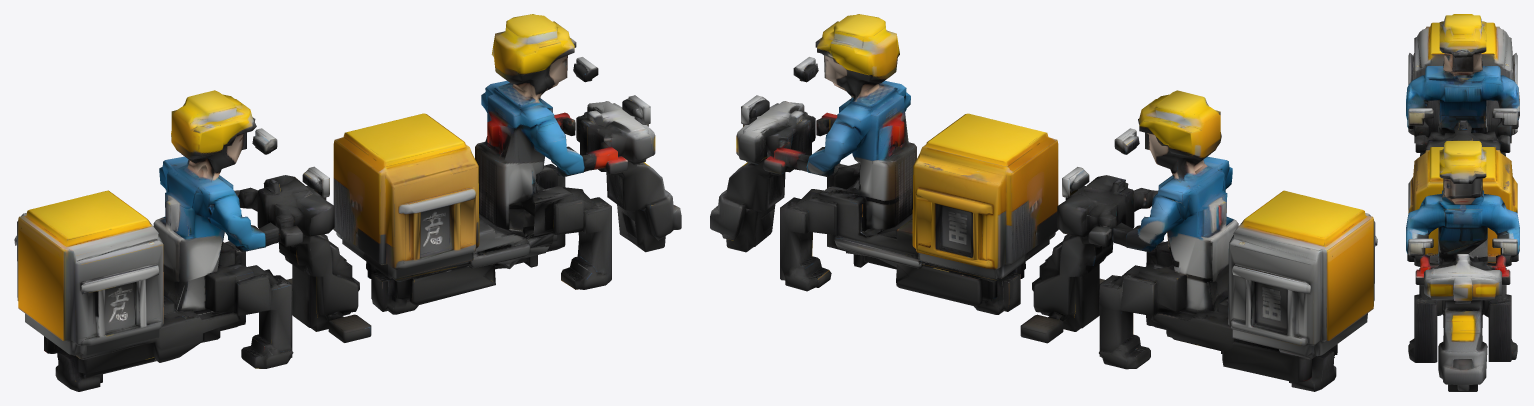
Rendered from meituan.glb.
3 views of the same model, side by side, from view 1: azimuth 30°, elevation 25°; view 2: azimuth 150°, elevation 25°; view 3: azimuth 270°, elevation 25° (orthographic). The views are drawn at different scales.
Bounding box in the file's own units: 2 × 0.7546 × 0.3918.
Materials: 1 (1 with a texture image).
